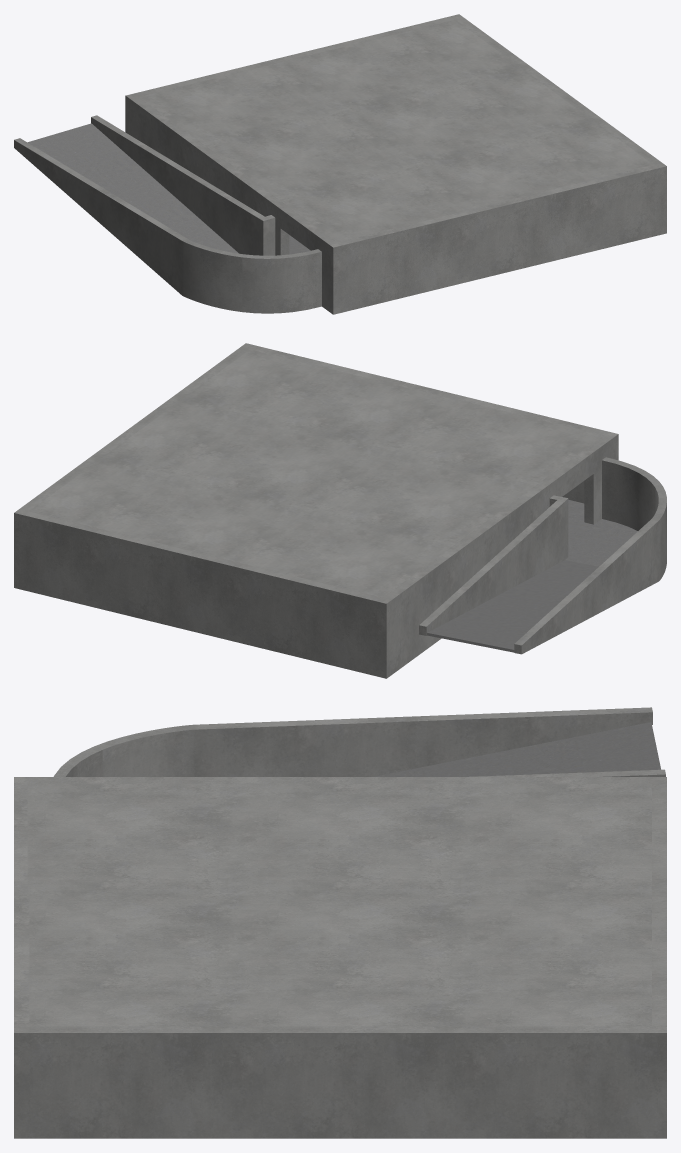
File: Parkla v2.glb
3 renders of one model, top to bottom at view 1: azimuth 30°, elevation 25°; view 2: azimuth 150°, elevation 25°; view 3: azimuth 270°, elevation 25°, orthographic. The views are drawn at different scales.
Visible parts, largest first — view 1: Box005, Box001, Line001, Box002, Box003; view 2: Box005, Box001, Line001, Box002, Box003, Tube001, Box004; view 3: Box005, Box001, Line001, Box002, Box003.
Boxes of the visible parts, left/top/right/bottom form: Box005: left=139, top=19, right=652, bottom=242; Box001: left=125, top=14, right=666, bottom=314; Line001: left=14, top=138, right=321, bottom=313; Box002: left=27, top=123, right=238, bottom=253; Box003: left=91, top=115, right=275, bottom=255; Box005: left=29, top=349, right=603, bottom=597; Box001: left=14, top=343, right=618, bottom=678; Line001: left=514, top=457, right=666, bottom=654; Box002: left=427, top=560, right=598, bottom=652; Box003: left=419, top=495, right=568, bottom=635; Tube001: left=565, top=519, right=637, bottom=566; Box004: left=568, top=499, right=592, bottom=542; Box005: left=27, top=783, right=651, bottom=1026; Box001: left=14, top=777, right=666, bottom=1138; Line001: left=53, top=707, right=652, bottom=776; Box002: left=373, top=722, right=660, bottom=776; Box003: left=469, top=769, right=665, bottom=776.
Bounding box in the file's own units: 21.03 × 3 × 16.82.
2 materials, 2 textured.
